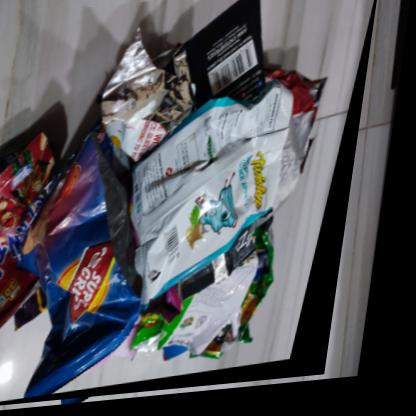Garbage: (1, 1, 382, 413)
